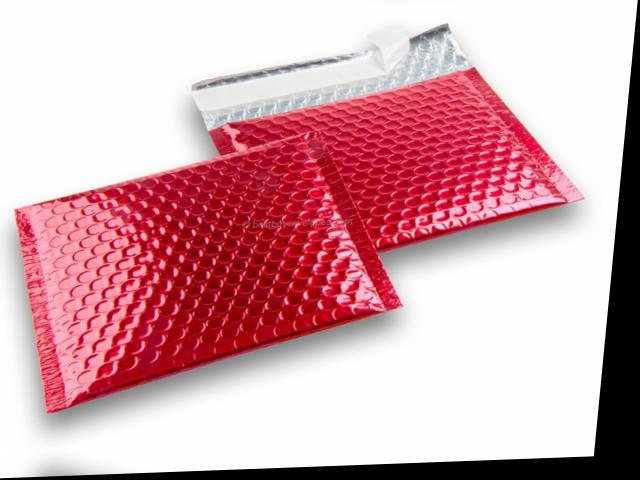package: (12, 123, 407, 422), (183, 20, 588, 262)
